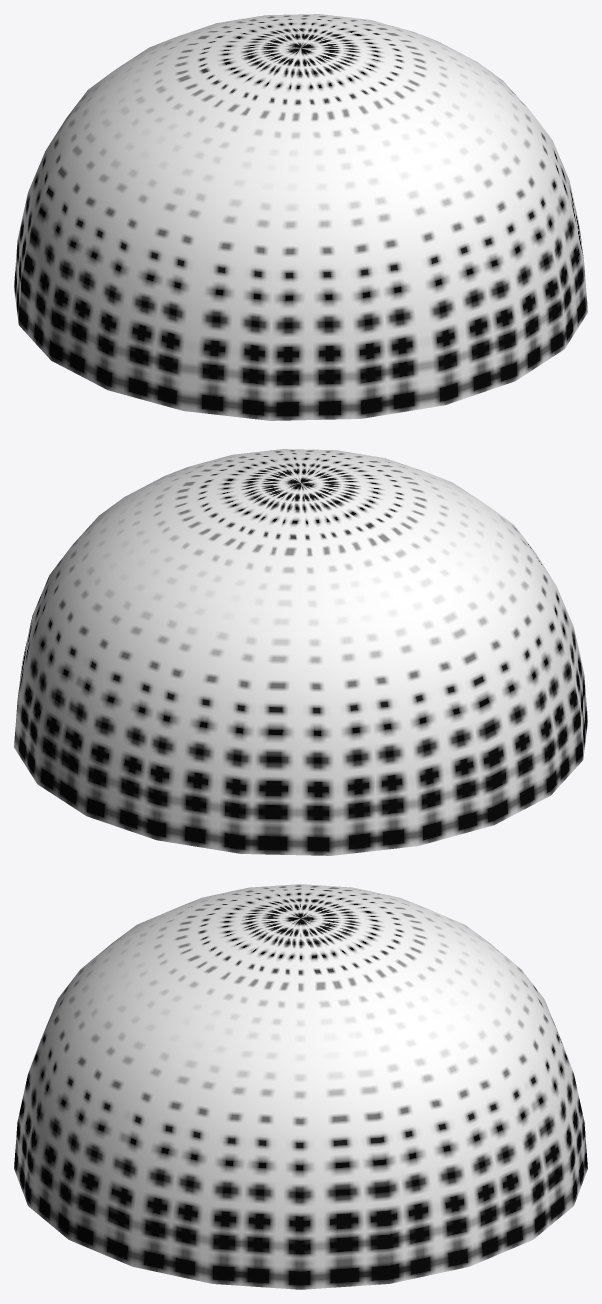
File: dome_mesh_1.fbx
The picture shows the model from 3 angles, top to bottom: view 1: azimuth 30°, elevation 25°; view 2: azimuth 150°, elevation 25°; view 3: azimuth 270°, elevation 25°; orthographic projection.
Parts seen in each view (by area): view 1: pSphere1; view 2: pSphere1; view 3: pSphere1.
Boxes of the visible parts, x1,y1,x2,y2 form: pSphere1: [14, 14, 587, 420]; pSphere1: [14, 449, 587, 855]; pSphere1: [14, 884, 587, 1289].
Size of the model in its own units: 2 by 0.9616 by 2.
